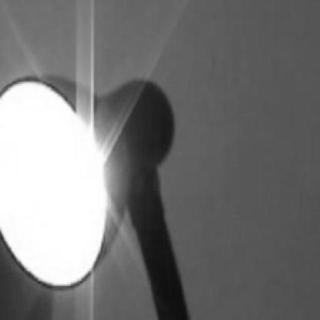other: (2, 70, 108, 298)
